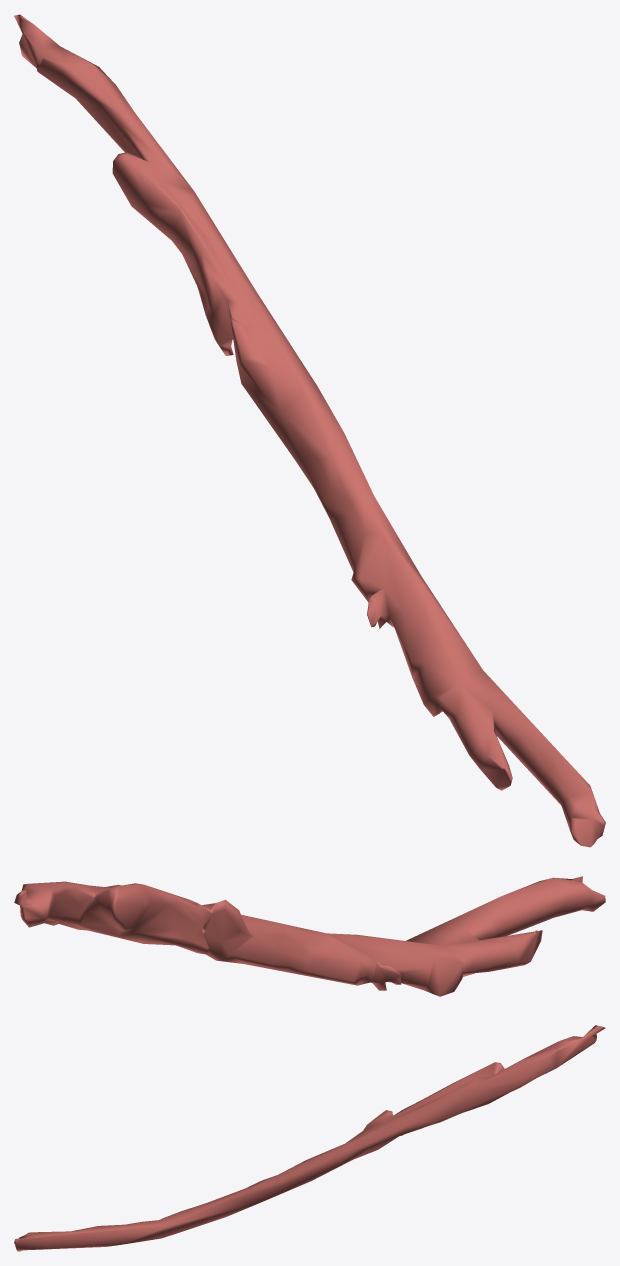
The picture shows the model from 3 angles, top to bottom: view 1: azimuth 30°, elevation 25°; view 2: azimuth 150°, elevation 25°; view 3: azimuth 270°, elevation 25°; orthographic projection. The views are drawn at different scales.
Visible parts, largest first — view 1: 左侧颈棘肌; view 2: 左侧颈棘肌; view 3: 左侧颈棘肌.
Boxes of the visible parts, bbox=[...] form: 左侧颈棘肌: bbox=[14, 14, 605, 847]; 左侧颈棘肌: bbox=[14, 876, 605, 996]; 左侧颈棘肌: bbox=[14, 1025, 605, 1251].
Size of the model in its own units: 0.0117 by 0.0646 by 0.1558.
